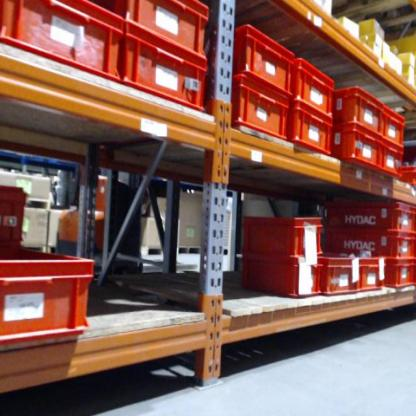pallet: (14, 195, 56, 214), (131, 244, 167, 259), (172, 242, 205, 256), (47, 245, 68, 260)
pallet_truck: (52, 158, 151, 281)
small_load_carrier: (1, 2, 126, 84), (2, 252, 101, 346), (120, 35, 212, 120), (217, 26, 292, 98), (124, 3, 209, 62), (217, 73, 288, 142), (240, 253, 324, 305), (240, 212, 328, 253), (322, 203, 416, 236), (294, 60, 336, 124), (285, 108, 334, 159), (334, 90, 385, 136), (325, 237, 415, 261), (334, 128, 384, 171), (320, 257, 359, 296), (353, 250, 385, 294), (2, 185, 24, 248), (382, 105, 407, 149), (378, 262, 416, 289), (380, 143, 402, 177), (398, 166, 416, 186)
